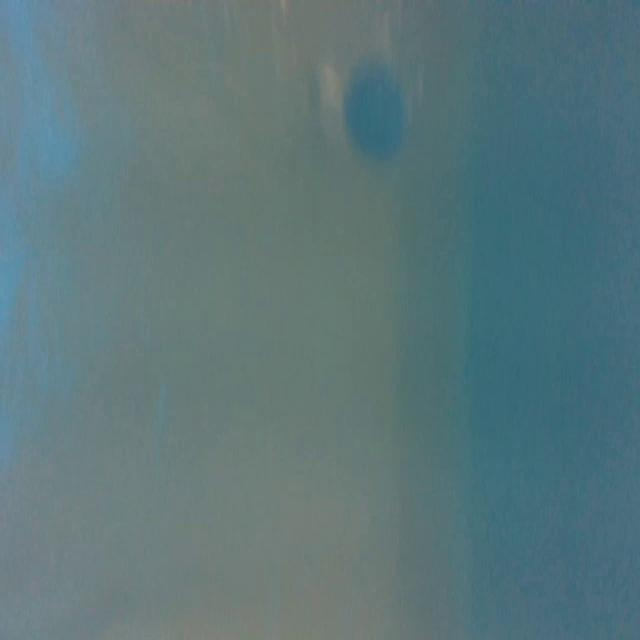plastic bottle: (264, 0, 432, 201)
